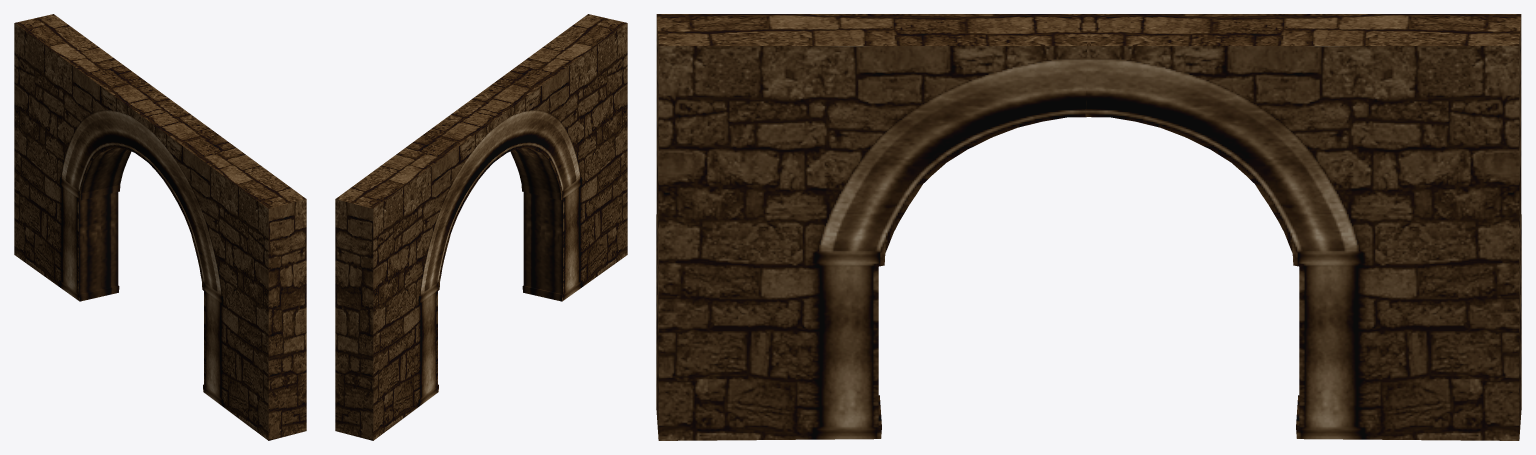
Rendered from Arch.fbx.
The picture shows the model from 3 angles, left to right: view 1: azimuth 30°, elevation 25°; view 2: azimuth 150°, elevation 25°; view 3: azimuth 270°, elevation 25°; orthographic projection. The views are drawn at different scales.
Parts seen in each view (by area): view 1: Plane.045; view 2: Plane.045; view 3: Plane.045.
Part boxes in pixels (<box>): Plane.045: <box>14,14,306,440</box>; Plane.045: <box>335,14,627,440</box>; Plane.045: <box>656,14,1521,440</box>.
Size of the model in its own units: 438 by 2513 by 4989.
